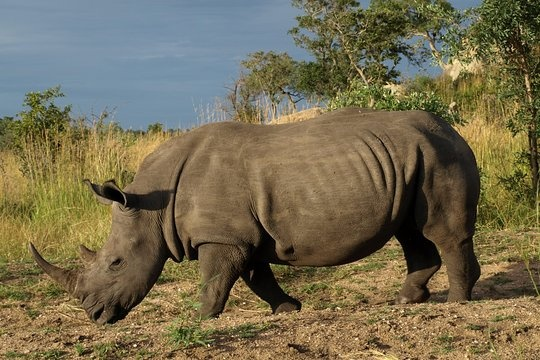rhino: (28, 107, 484, 328)
